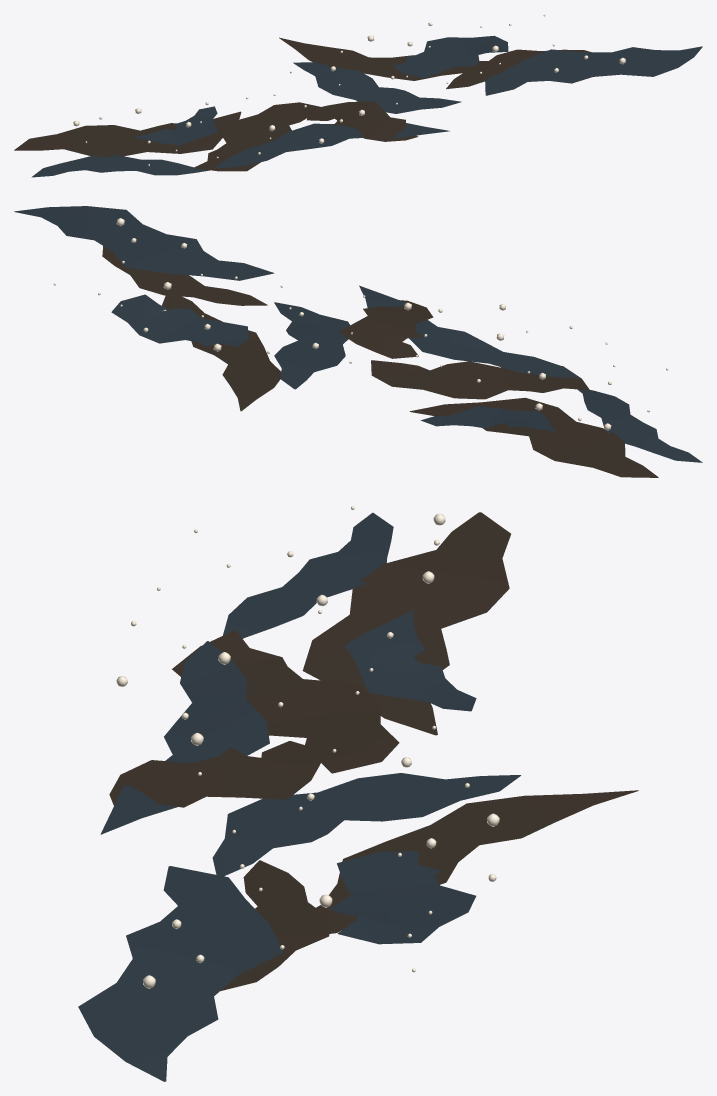
File: nebula.glb
The picture shows the model from 3 angles, top to bottom: view 1: azimuth 30°, elevation 25°; view 2: azimuth 150°, elevation 25°; view 3: azimuth 270°, elevation 25°; orthographic projection. The views are drawn at different scales.
Visible parts, largest first — view 1: nebula_textured_mesh; view 2: nebula_textured_mesh; view 3: nebula_textured_mesh.
Part boxes in pixels (box(x1,y1,x2,y2)): nebula_textured_mesh: box(14, 14, 702, 177); nebula_textured_mesh: box(14, 206, 702, 477); nebula_textured_mesh: box(78, 506, 638, 1081).
Bounding box in the file's own units: 5.1 × 0.246 × 2.
Materials: 1 (1 with a texture image).
